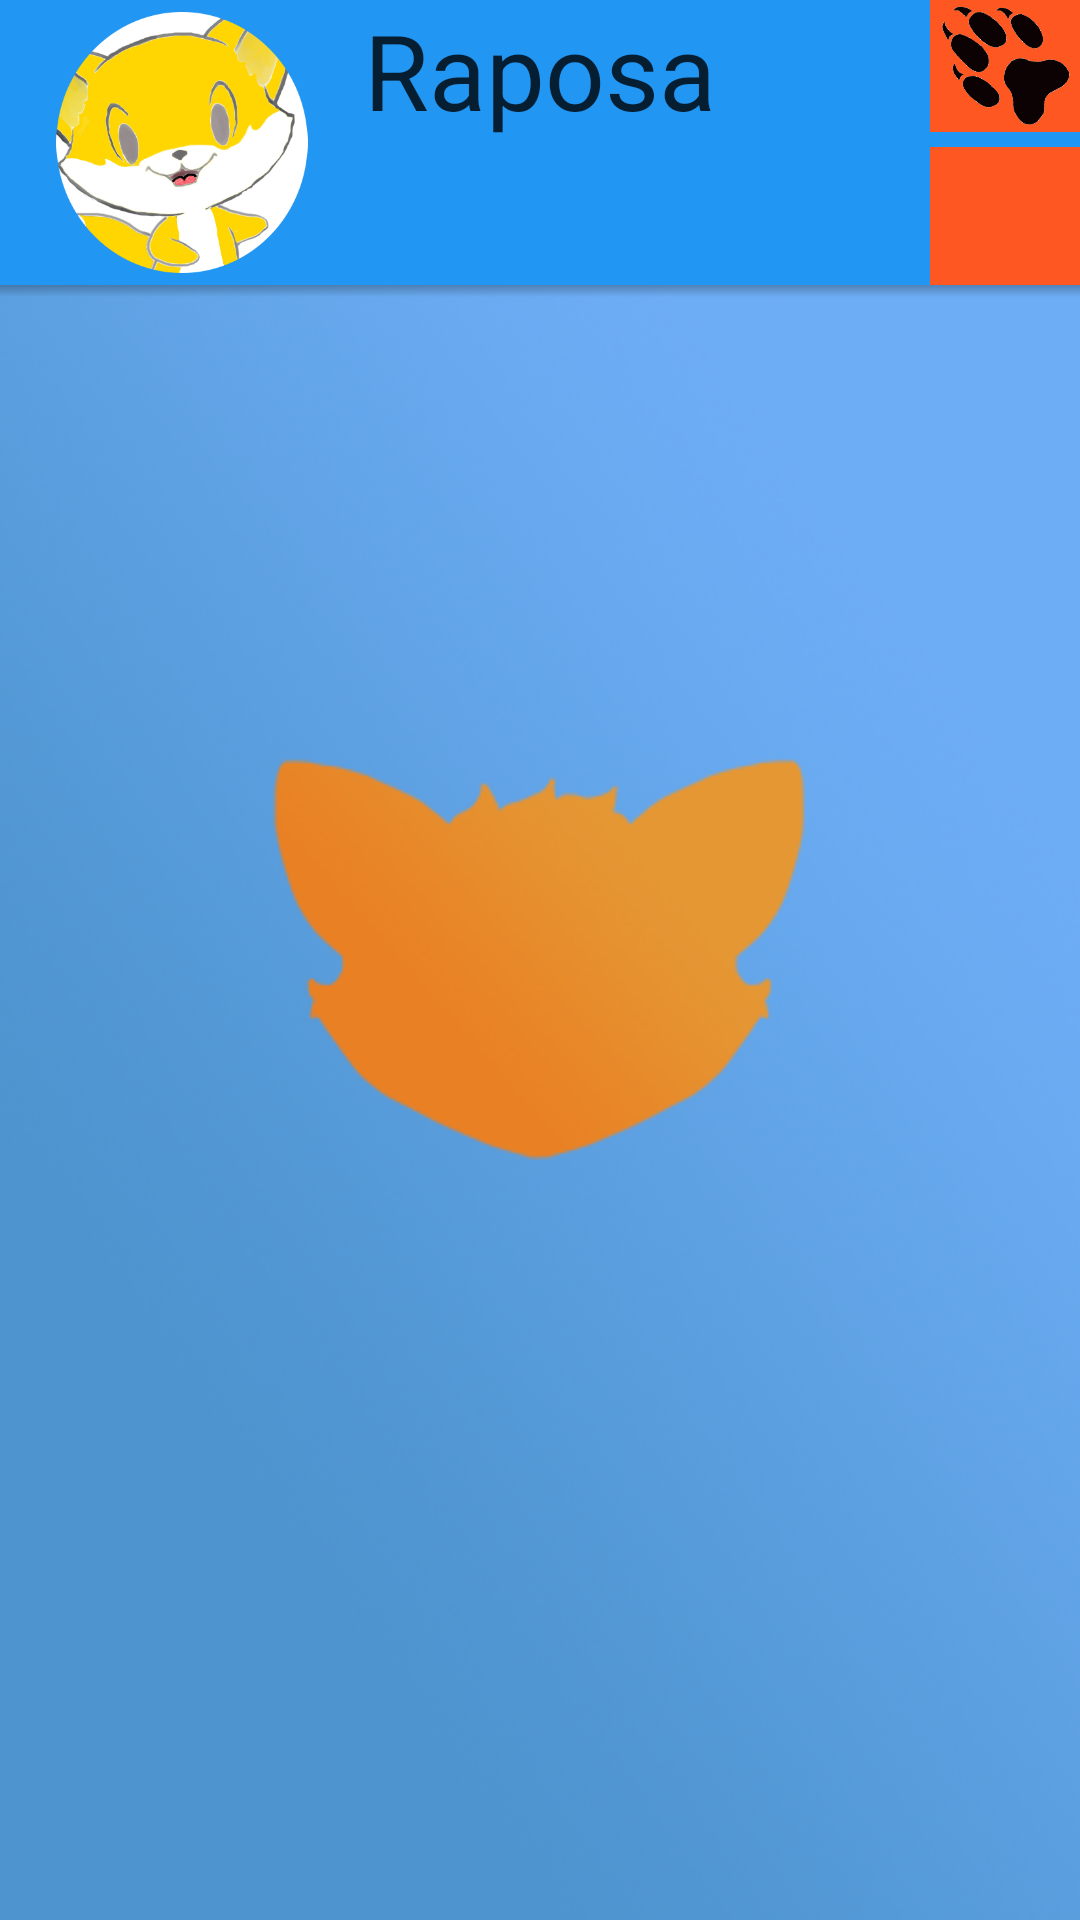

Icon bounding boxes for this 1080 x 1920 phone screenshot, format (x1, y1, x2, y2):
foxpaw: (930, 0, 1080, 132)
